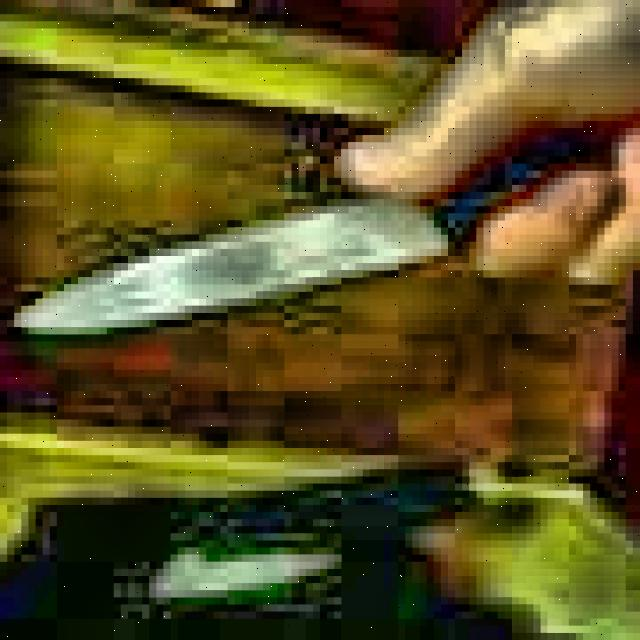knife: (15, 120, 633, 336)
